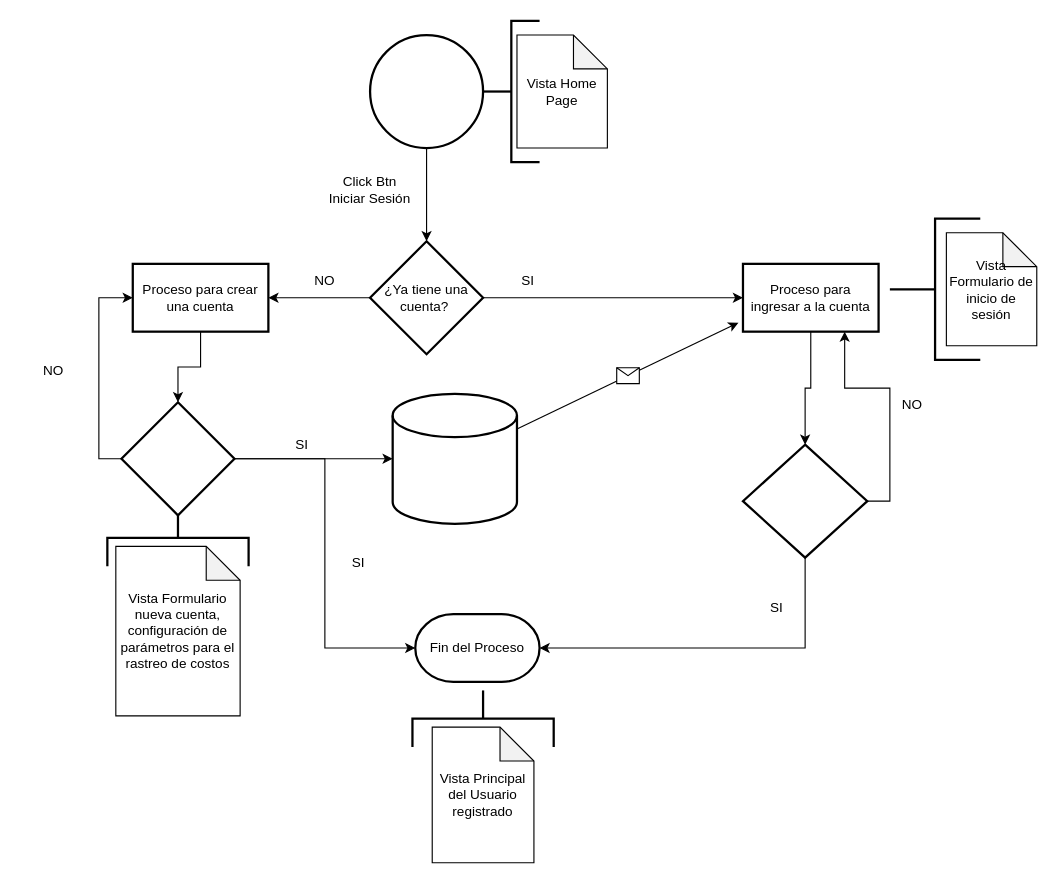
The diagram is 1057 pixels wide and 883 high, and some of its shapes have lost their labels. Here are the shapes that lost their labels. From the top down, the centre of each, then its label:
At (426,91): "Página Principal (primer vista)".
At (177,458): "¿Registro exitoso?".
At (454,458): "Azure SQL Database".
At (804,500): "¿Ingreso exitoso?".
